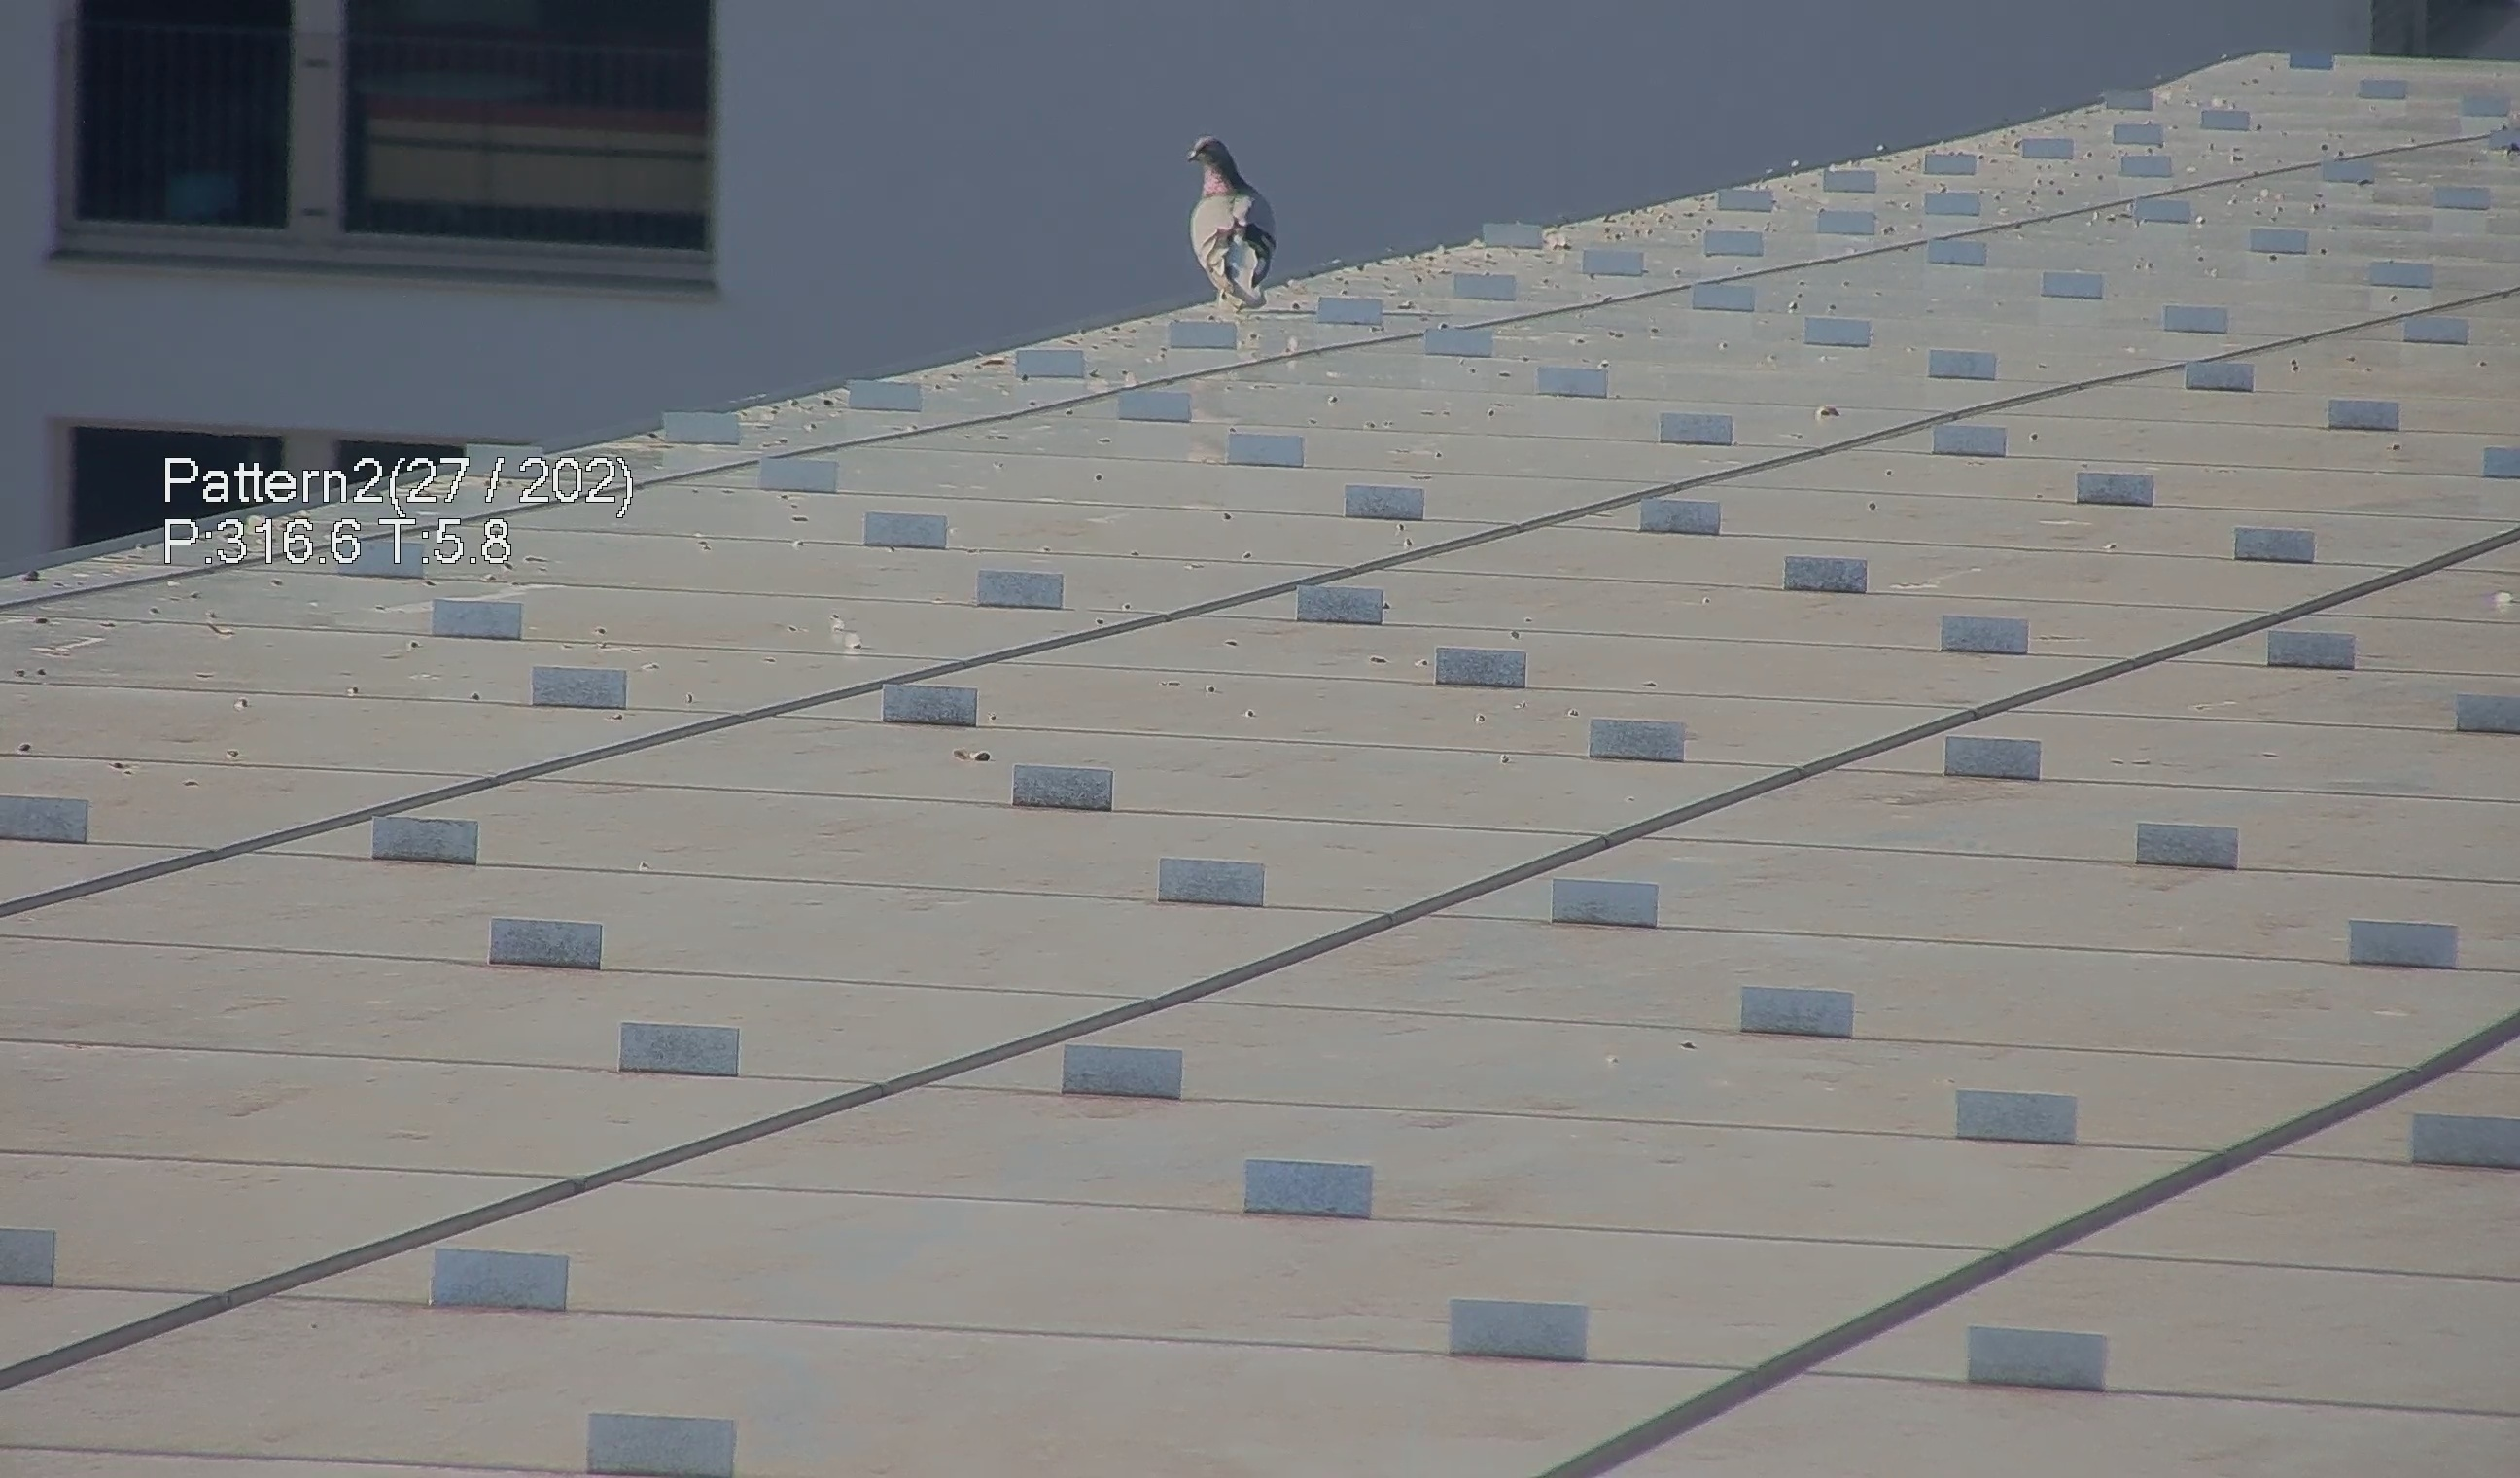Pigeon: (1168, 123, 1280, 310)
